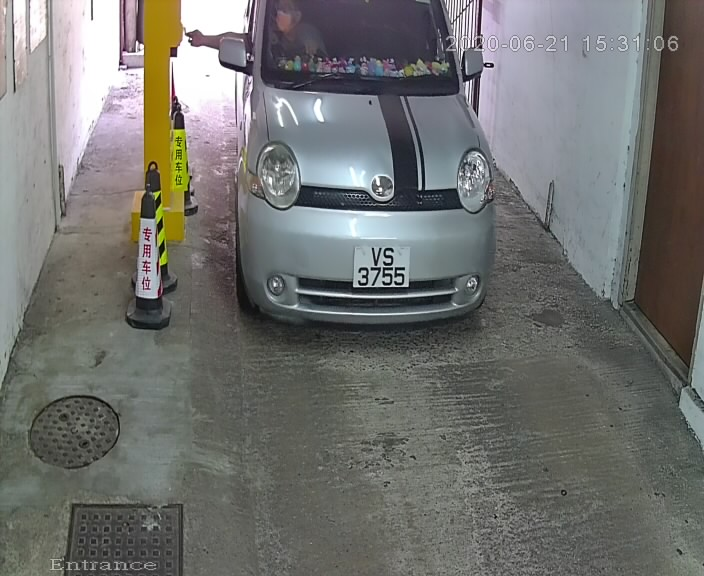privatecar: (212, 1, 515, 329)
